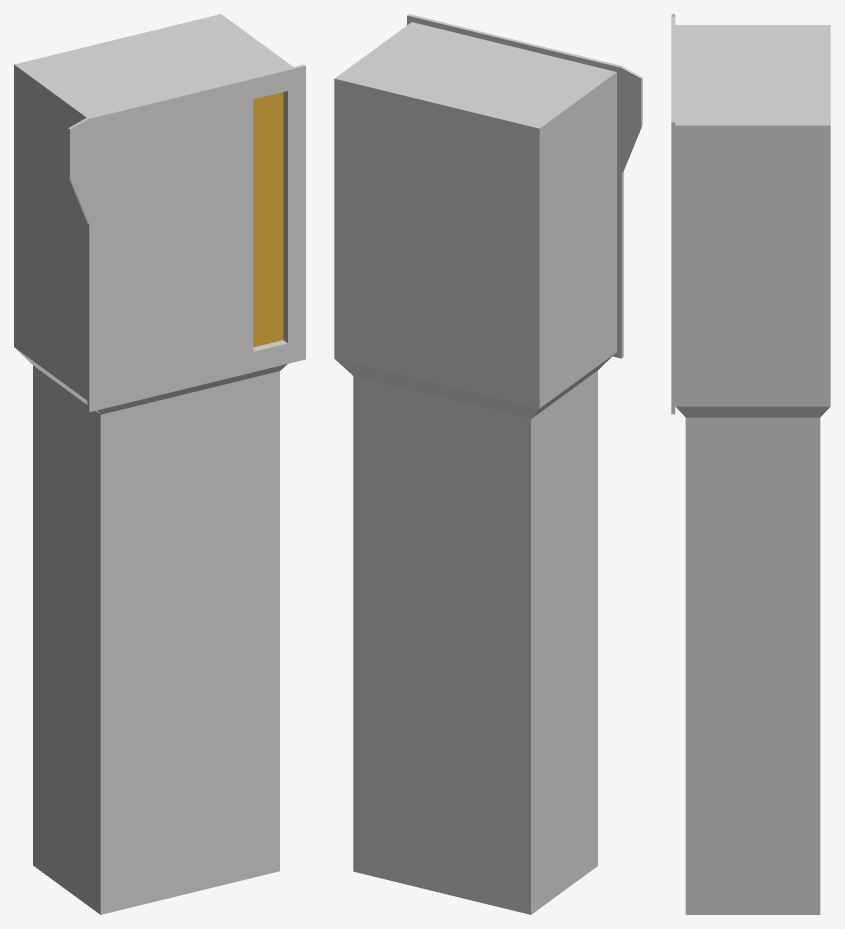
Rendered from OxygenMeter.fbx.
3 renders of one model, left to right at view 1: azimuth 30°, elevation 25°; view 2: azimuth 150°, elevation 25°; view 3: azimuth 270°, elevation 25°, orthographic.
Parts seen in each view (by area): view 1: OxygeneMetter; view 2: OxygeneMetter; view 3: OxygeneMetter.
Part boxes in pixels (bbox=[...]): OxygeneMetter: bbox=[14, 14, 305, 914]; OxygeneMetter: bbox=[334, 14, 642, 914]; OxygeneMetter: bbox=[671, 14, 830, 914].
Size of the model in its own units: 85.39 by 279 by 50.23.
